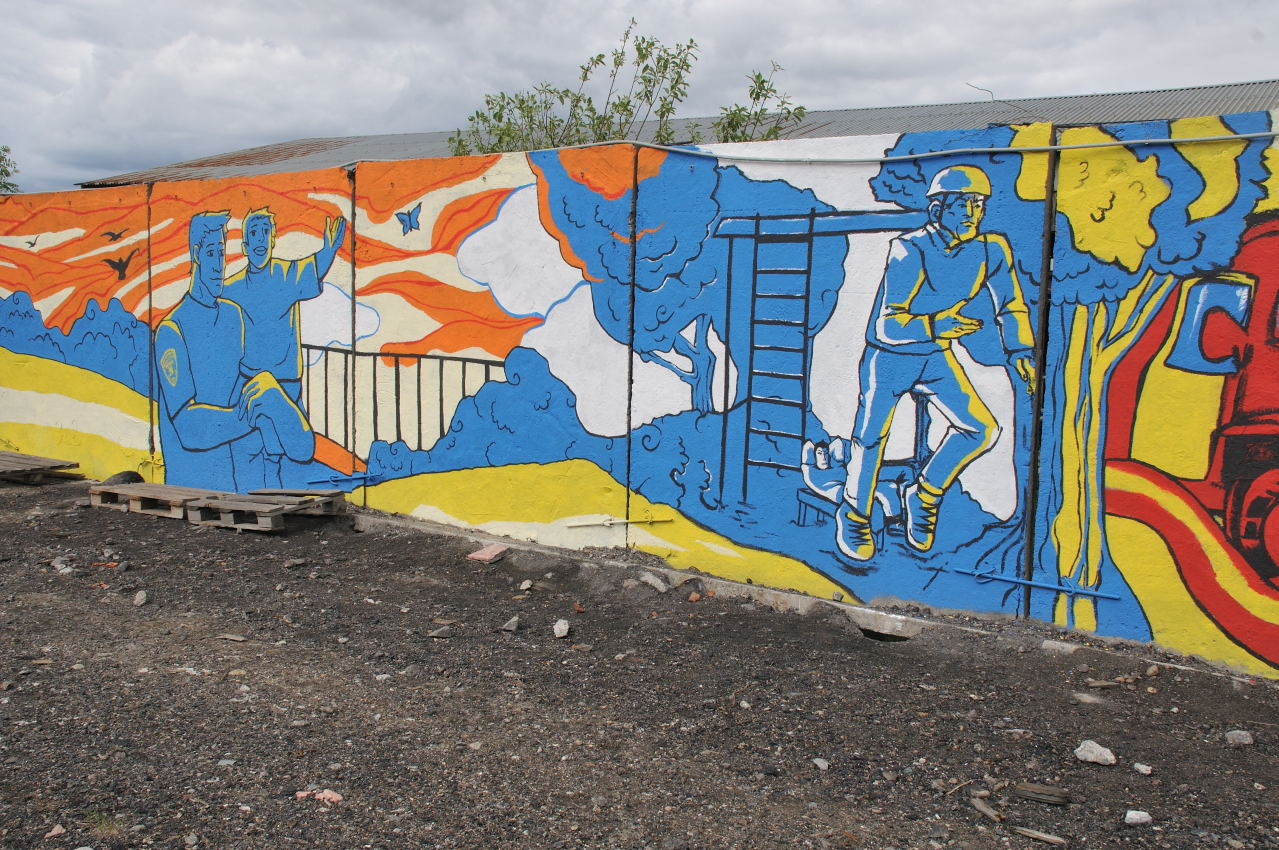graphite: (150, 180, 1279, 606), (1, 197, 144, 480)
